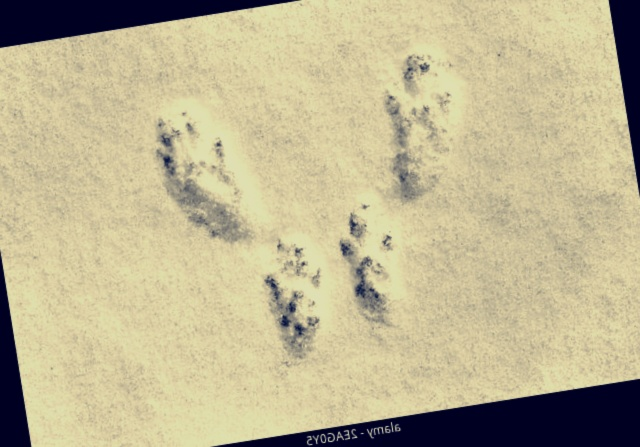ecureuil: (157, 54, 255, 223), (377, 81, 478, 231), (319, 213, 386, 360), (247, 210, 313, 346)
